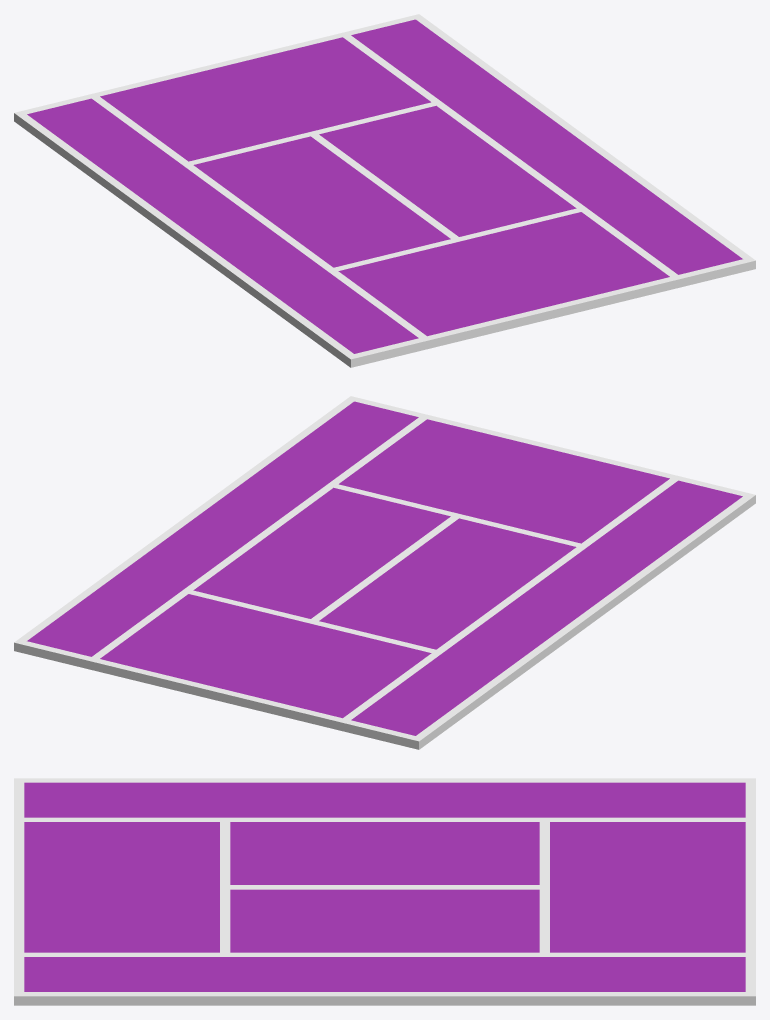
File: Court7.fbx
3 renders of one model, top to bottom at view 1: azimuth 30°, elevation 25°; view 2: azimuth 150°, elevation 25°; view 3: azimuth 270°, elevation 25°, orthographic. The views are drawn at different scales.
Visible parts, largest first — view 1: mergedBlocks; view 2: mergedBlocks; view 3: mergedBlocks.
Part boxes in pixels (x1=…): mergedBlocks: x1=14, y1=14, x2=755, y2=367; mergedBlocks: x1=14, y1=396, x2=755, y2=749; mergedBlocks: x1=14, y1=778, x2=755, y2=1005.
Bounding box in the file's own units: 50 × 1 × 72.
